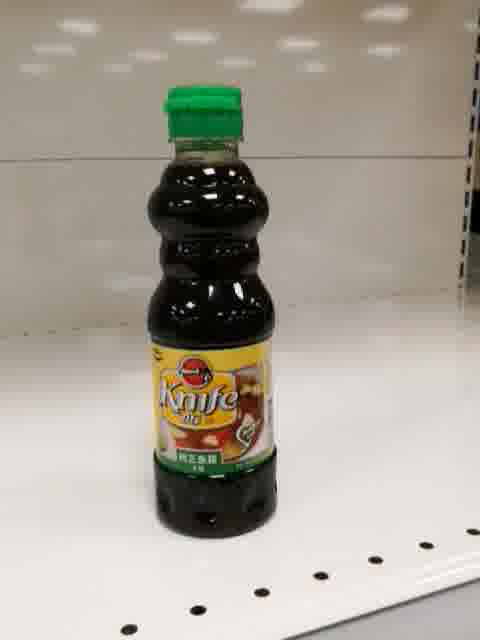cookingoil: (144, 83, 279, 541)
